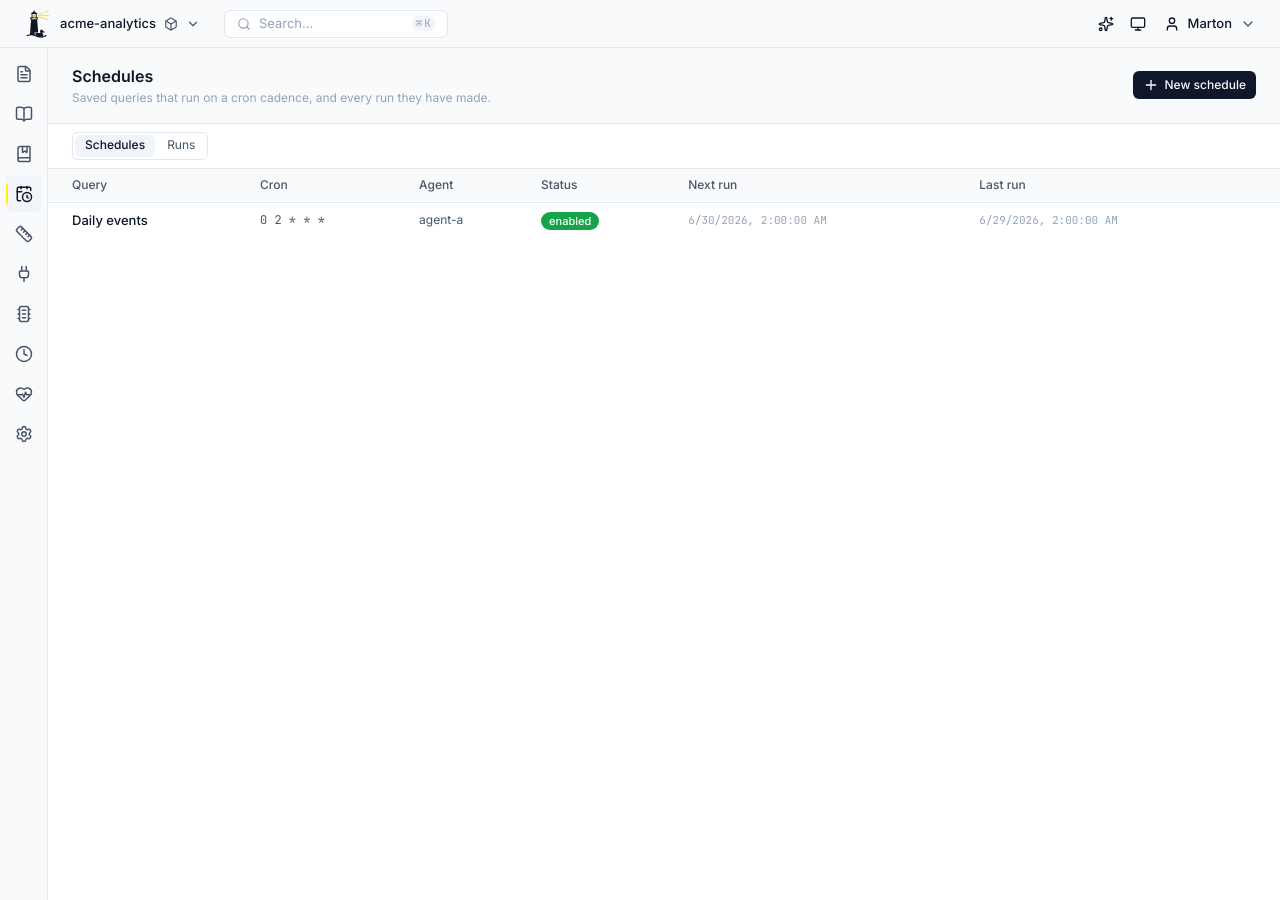
Test: SchedulesPage › shows all scheduled runs on the Runs tab
Check: the text "Daily events" is shown, box [48,202,248,238]
Step 1. Click the tab "Runs" → (181, 146), box [157,135,205,157]
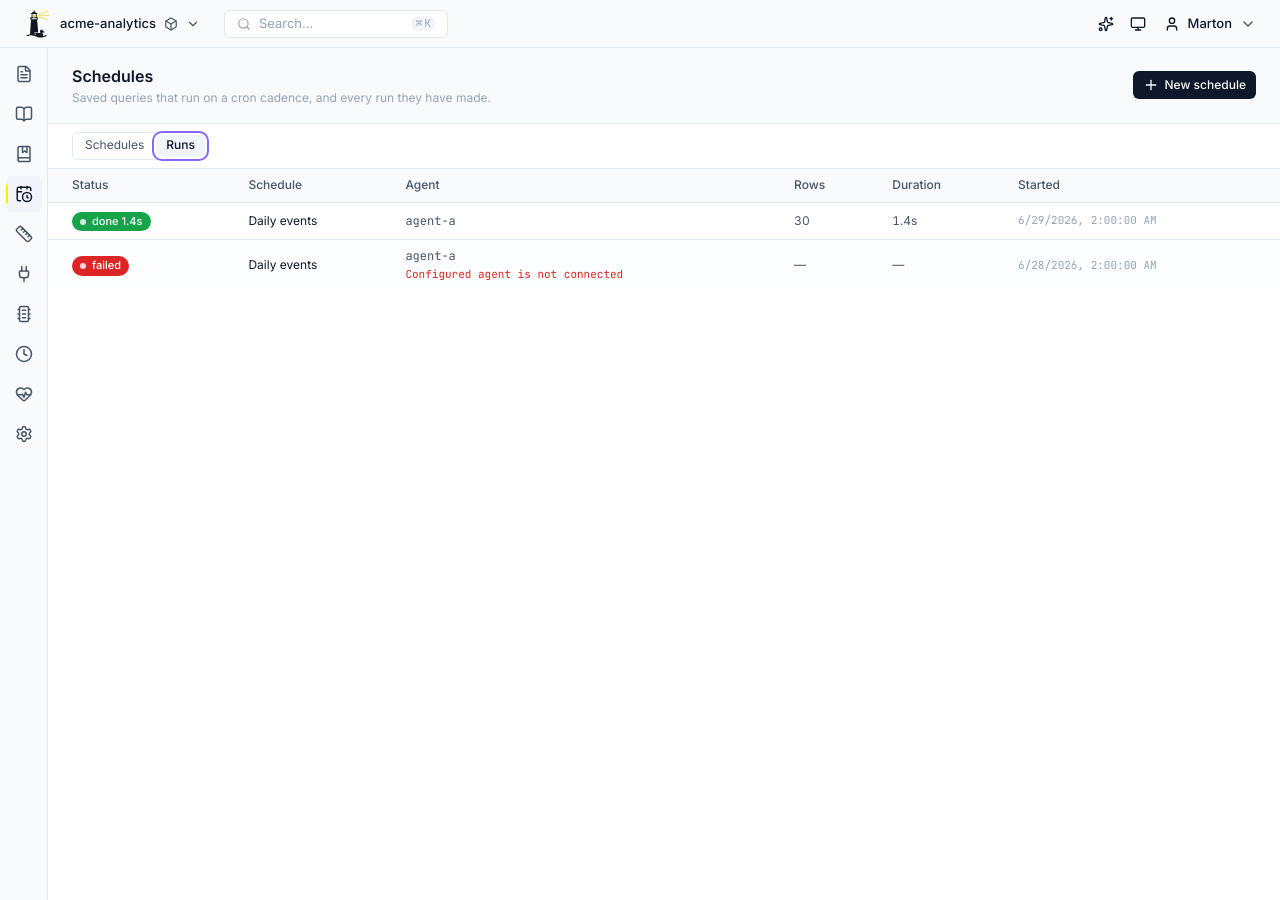
Check: the table is shown, box [48,169,1279,290]
Check: the message "done" is shown, box [72,212,150,231]
Check: the message "failed" is shown, box [72,256,129,276]
